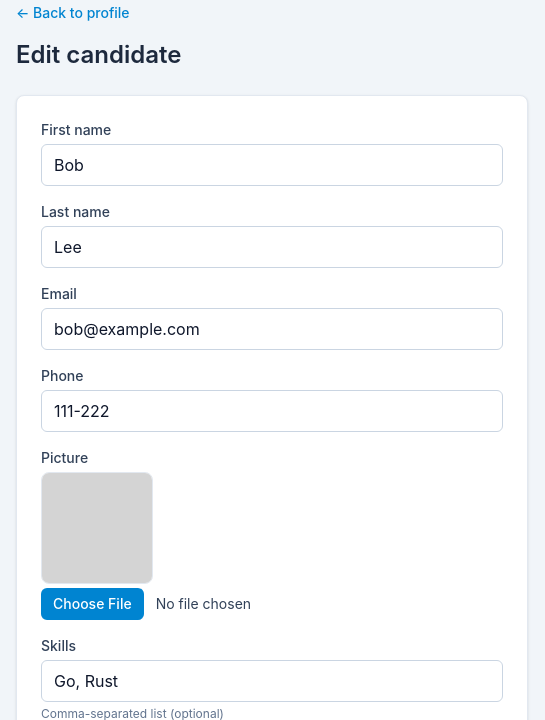
Test: EditCandidate › shows Zod validation for empty text fields
Clear the field labelled "First name" at (272, 165), box [41,144,503,186]
(page scrolled)
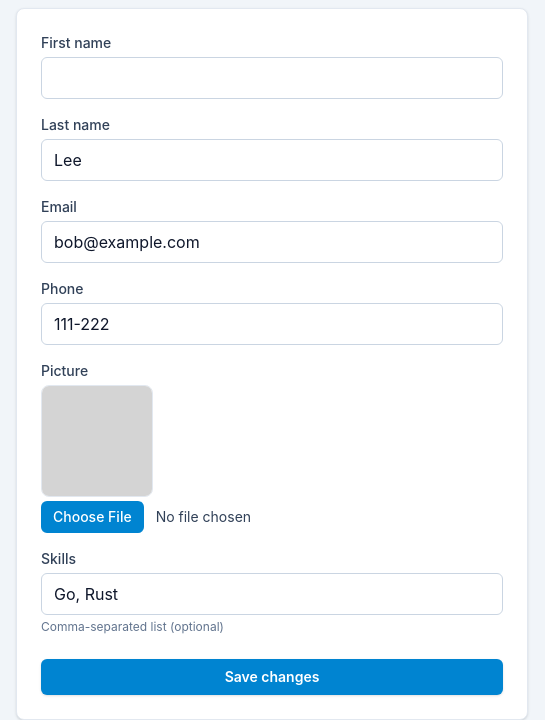
Click the button "Save changes" at (272, 677), box [41,659,503,695]
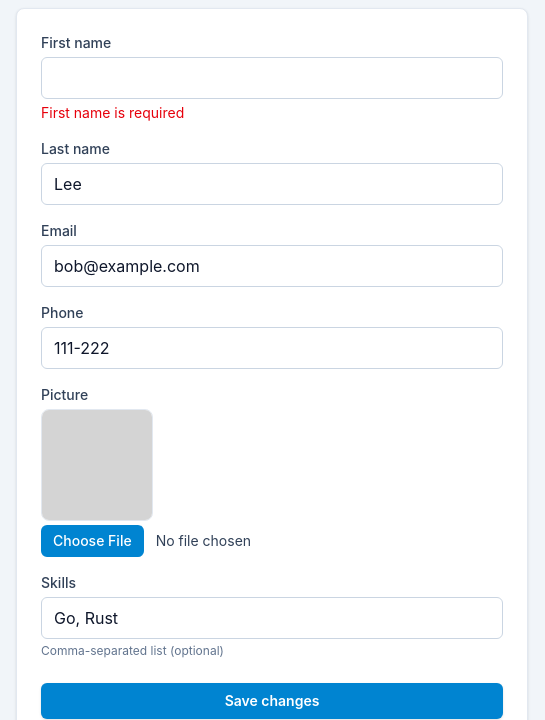
expect the text "First name is required" is shown: met, box [41,104,184,121]
